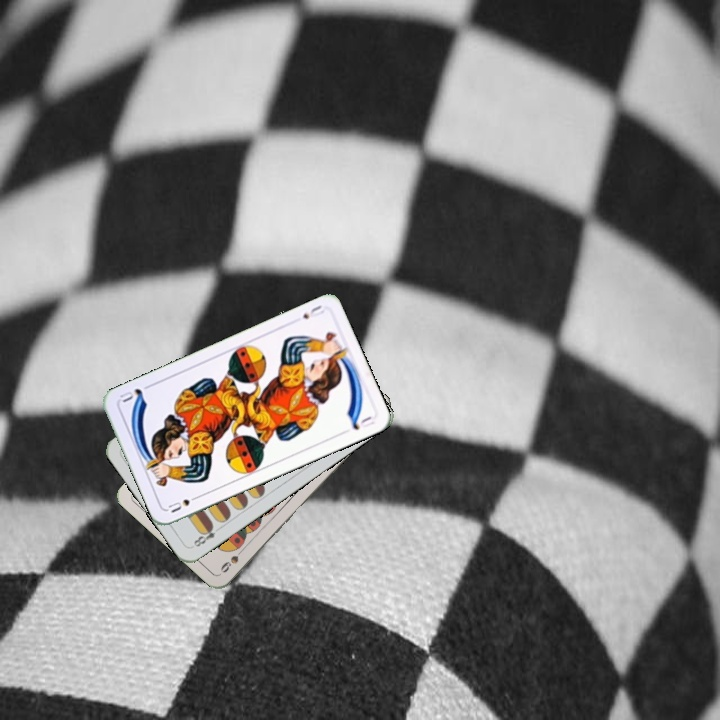E8: (190, 521, 224, 550)
S9: (216, 543, 248, 575)
SU: (164, 491, 203, 515), (298, 301, 327, 322)
